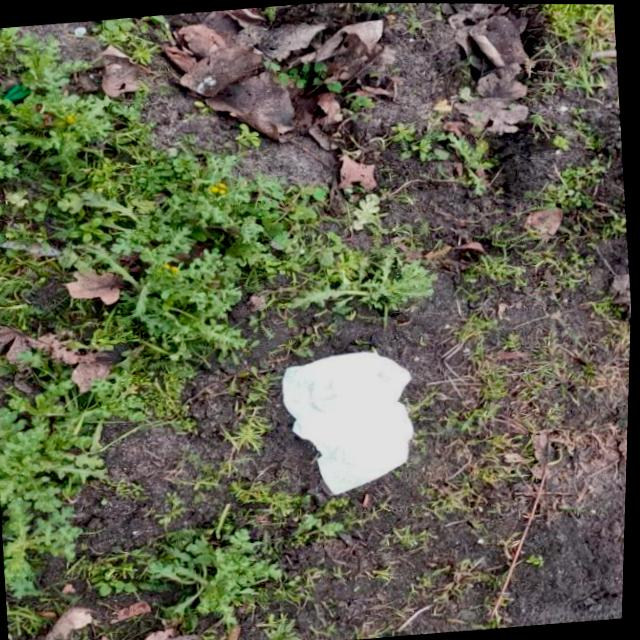Paper: (278, 344, 426, 500)
